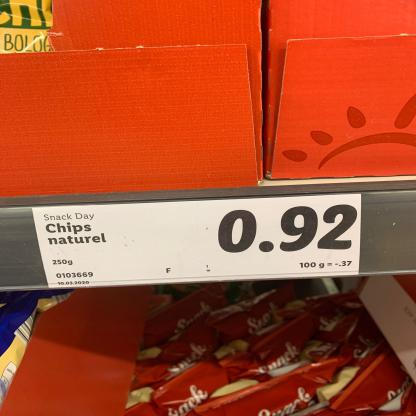prtg: (32, 195, 362, 289)
